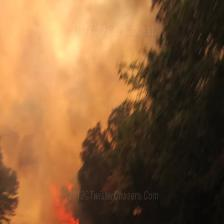fire: (38, 168, 114, 224)
smoke: (1, 1, 224, 167)
